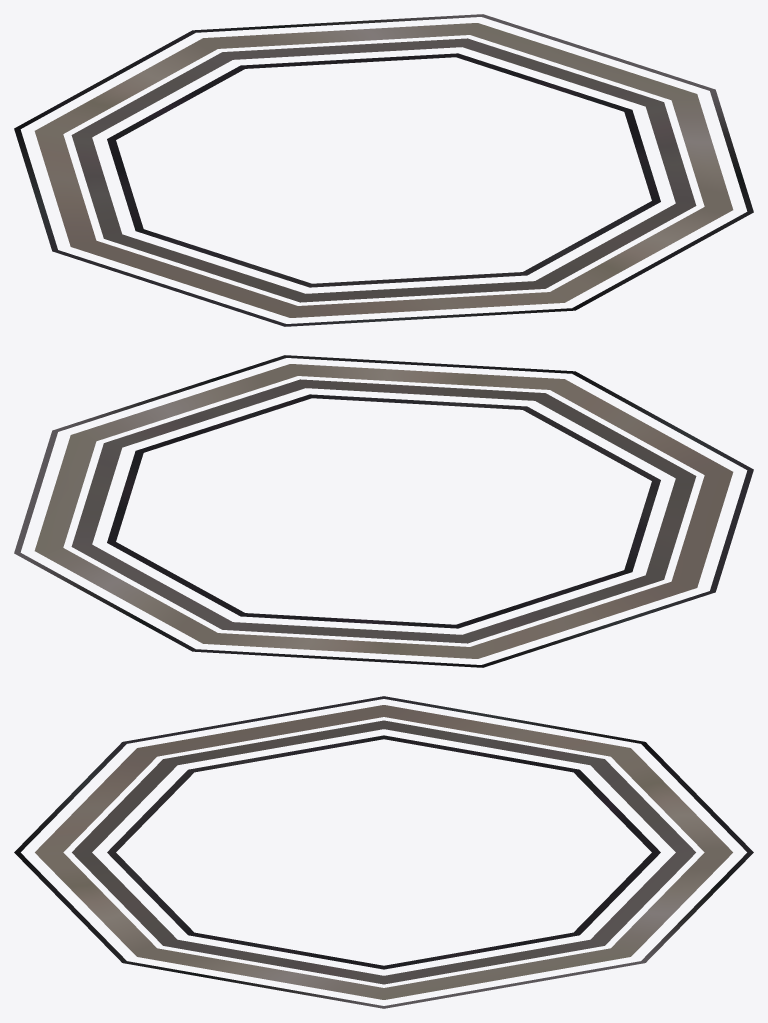
Rendered from saturnring.glb.
The picture shows the model from 3 angles, top to bottom: view 1: azimuth 30°, elevation 25°; view 2: azimuth 150°, elevation 25°; view 3: azimuth 270°, elevation 25°; orthographic projection. The views are drawn at different scales.
Parts seen in each view (by area): view 1: ring; view 2: ring; view 3: ring.
Boxes of the visible parts, x1,y1,x2,y2 form: ring: (14,14,753,326); ring: (14,355,753,667); ring: (14,696,753,1008).
Bounding box in the file's own units: 2.79 × 0 × 2.79.
Materials: 1 (1 with a texture image).
